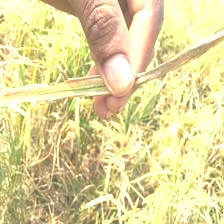Leaf_Blast: (1, 29, 217, 119)
